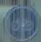bike lane: (5, 0, 34, 41)
